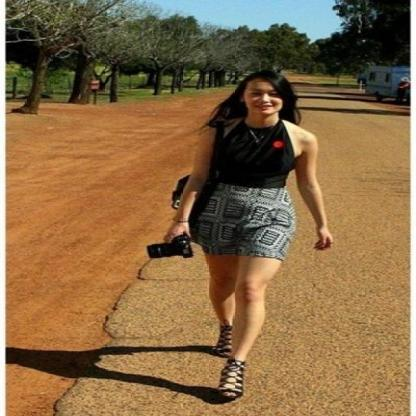shirt: (208, 119, 307, 196)
shoe: (210, 333, 244, 400)
skirt: (188, 175, 294, 261)
